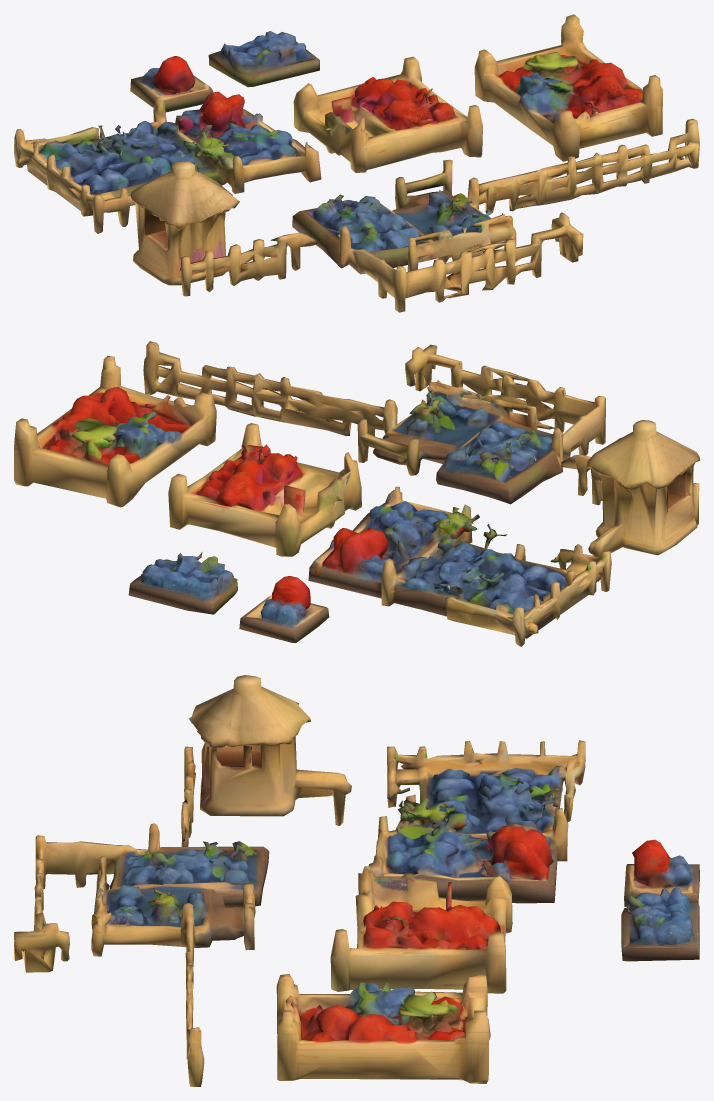
File: Yagodi.glb
3 renders of one model, top to bottom at view 1: azimuth 30°, elevation 25°; view 2: azimuth 150°, elevation 25°; view 3: azimuth 270°, elevation 25°, orthographic. The views are drawn at different scales.
Bounding box in the file's own units: 2 × 0.4342 × 1.9.
1 material, 1 textured.
